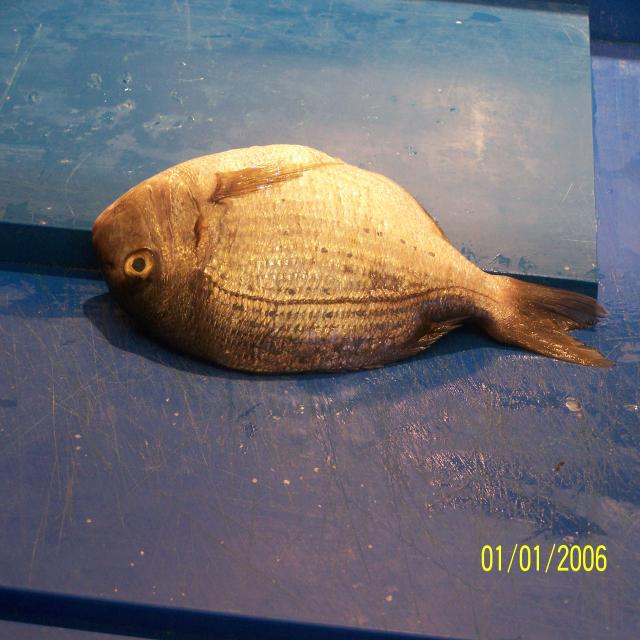Red-Sea-Bream-mercan-: (89, 144, 614, 377)
